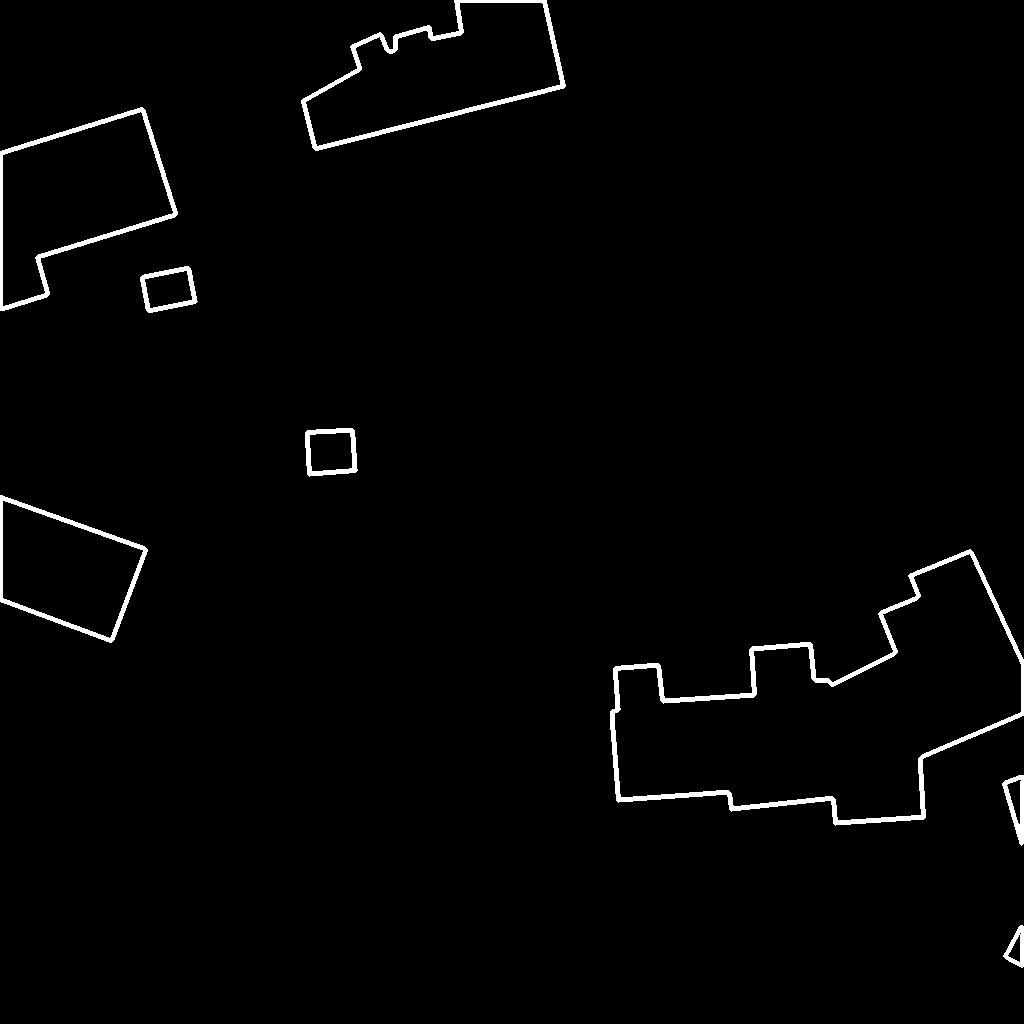building: (612, 551, 1024, 824), (303, 0, 565, 150), (0, 109, 177, 310), (0, 497, 147, 642), (142, 268, 196, 312), (307, 430, 356, 475), (1004, 777, 1024, 846), (1005, 927, 1024, 967)
